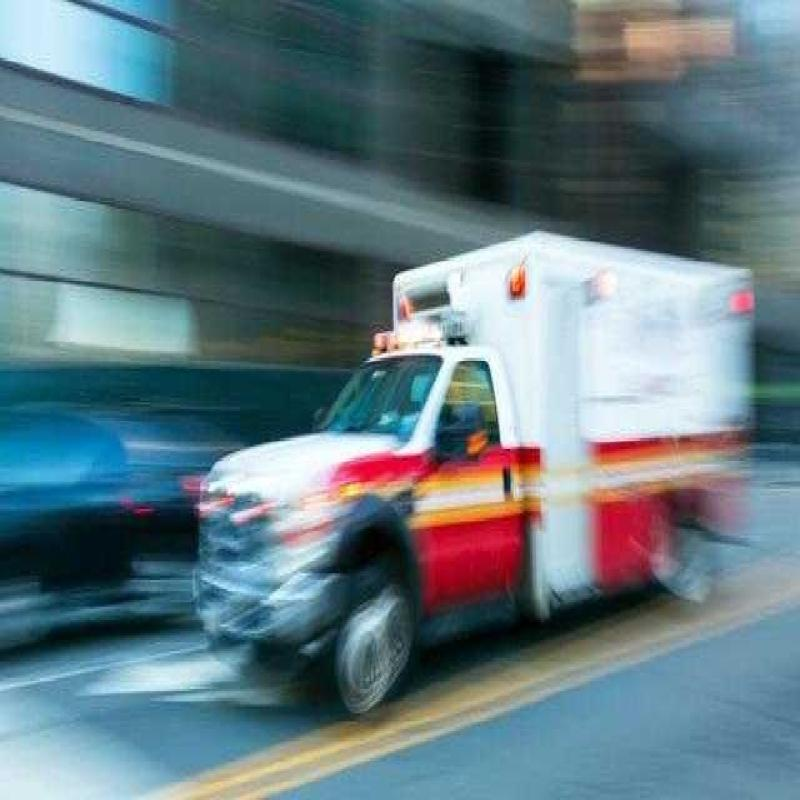AmbulanceSiren: (503, 260, 530, 300)
